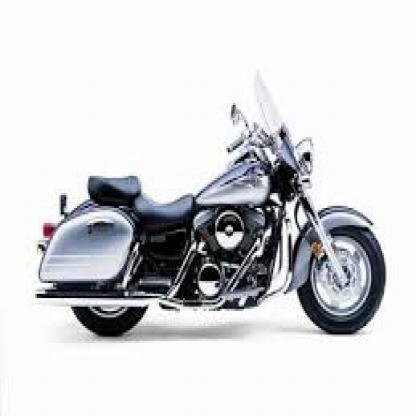Motorcycle: (32, 76, 385, 337)
